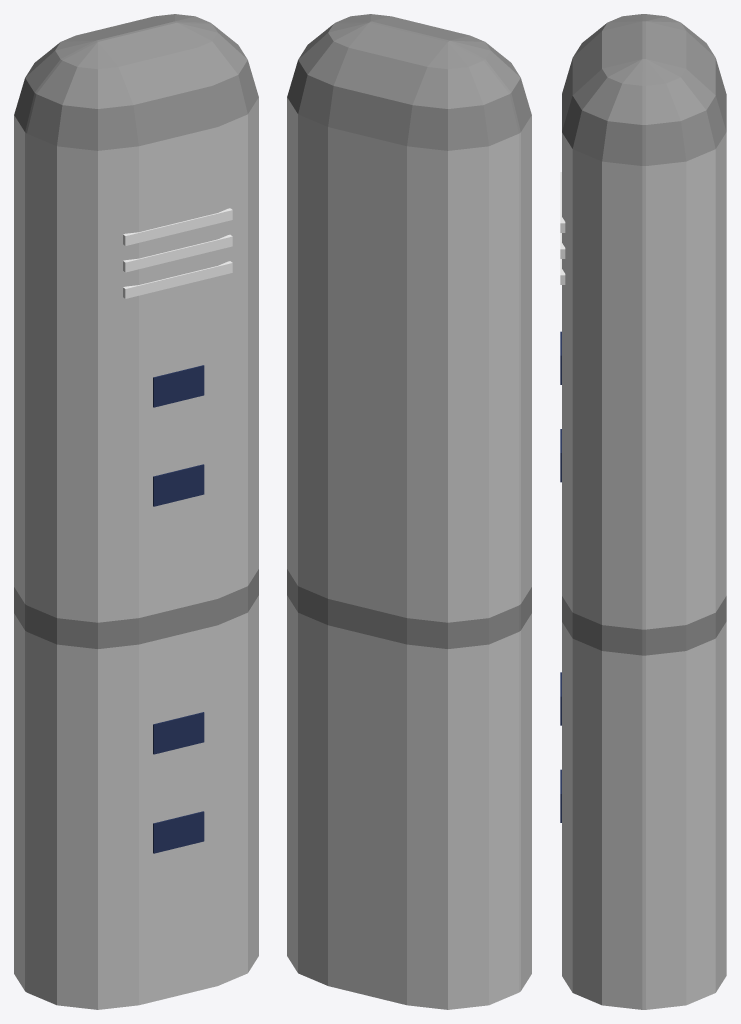
Rendered from tower_chamfer.obj.
3 views of the same model, side by side, from view 1: azimuth 30°, elevation 25°; view 2: azimuth 150°, elevation 25°; view 3: azimuth 270°, elevation 25° (orthographic).
Bounding box in the file's own units: 14 × 56.5 × 9.28.
